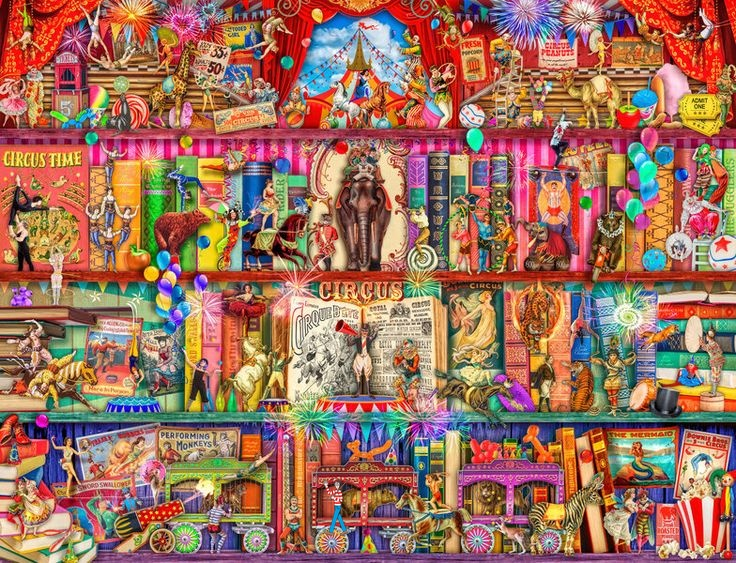waldo: (323, 478, 348, 536)
